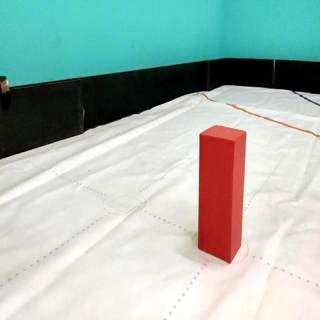redbox: (198, 123, 247, 264)
